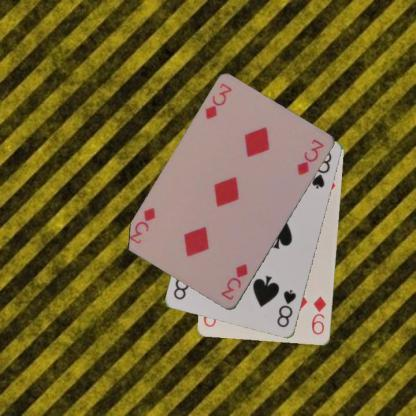3d: (202, 80, 234, 122), (219, 261, 250, 302)
8s: (274, 287, 298, 329)
9d: (309, 294, 328, 336)
